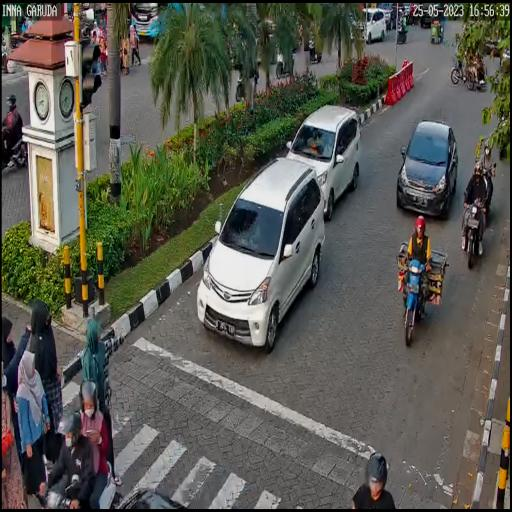mobil: (196, 157, 326, 354), (282, 104, 362, 218), (395, 118, 458, 220)
motor: (398, 253, 433, 348), (461, 188, 488, 269)
